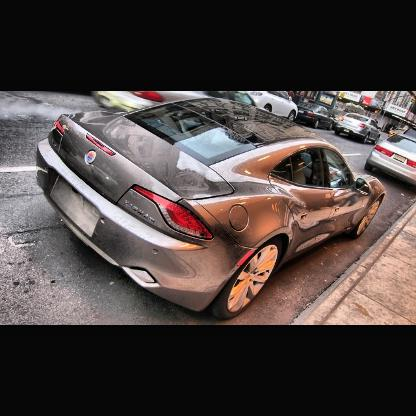Fisker Karma Sedan 2012: (36, 98, 387, 319)
